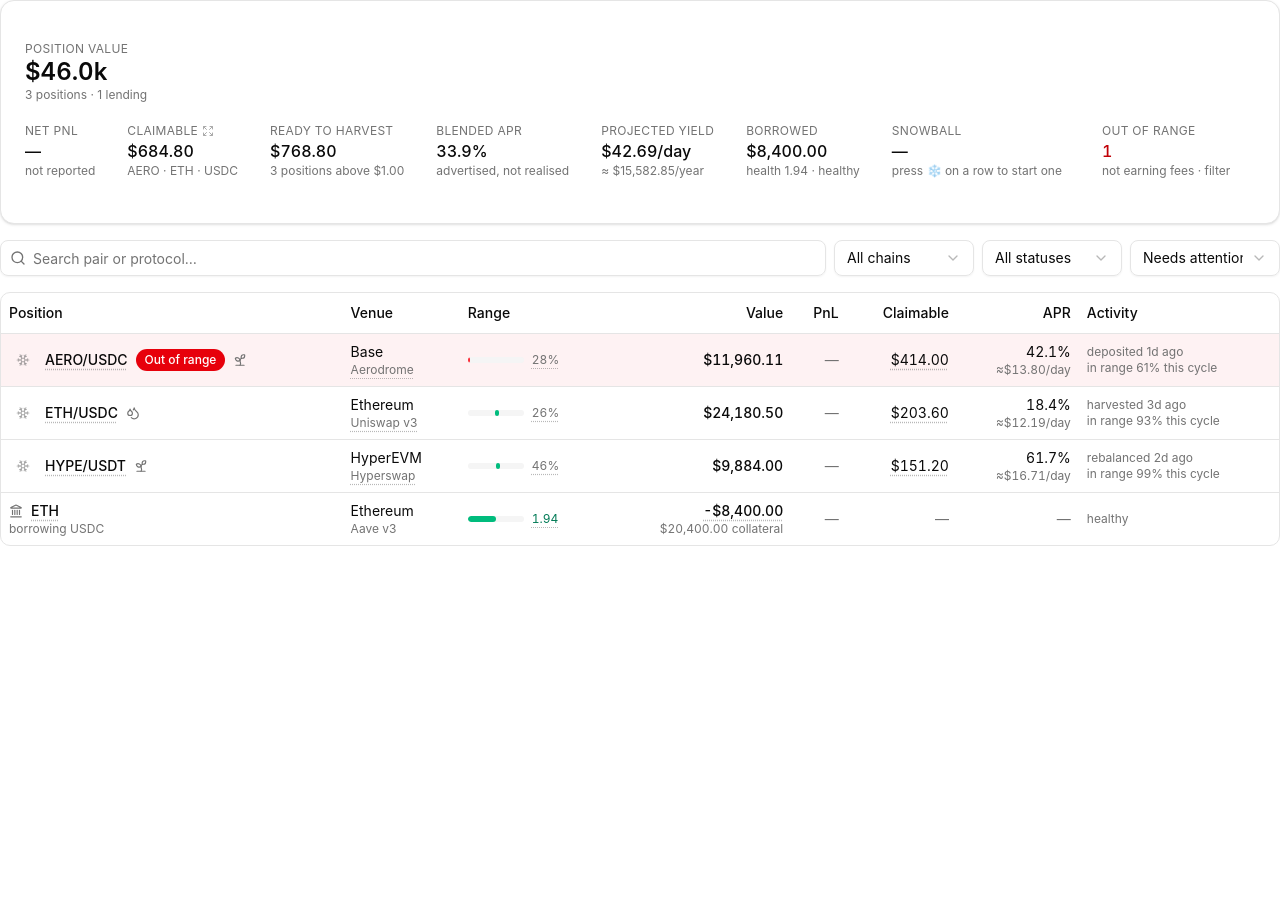
Test: DeFi › de-duplicates the shared campaign claim in the claimable summary
The image size is (1280, 900).
# The breakdown is behind the Claimable figure now, not a card below the table.
Click the button with aria-label "Claimable — open details" at {"x": 183, "y": 151}, box [119,119,246,183]
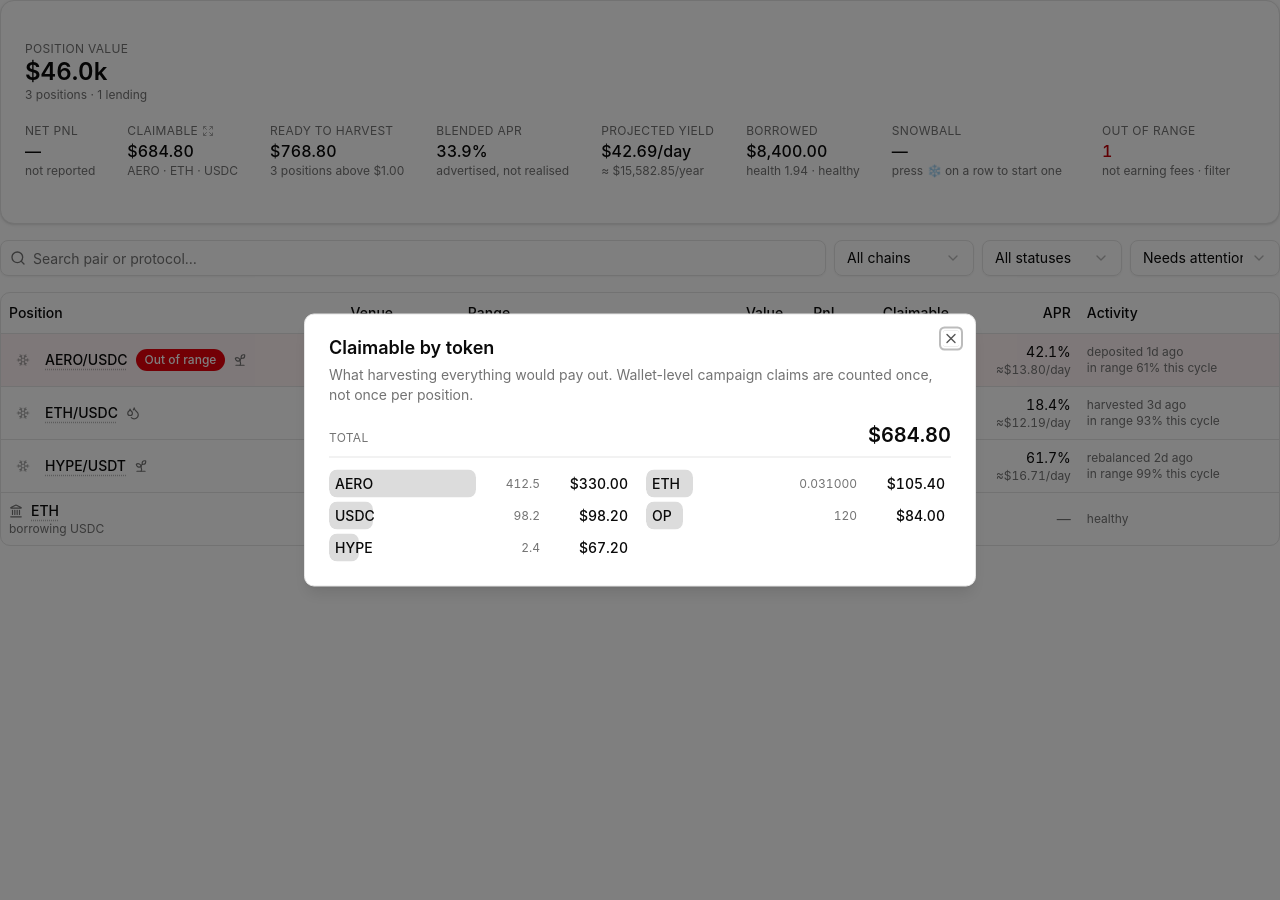
Expected: the list item "OP 120 $84.00" is shown, [646,502,951,530]
